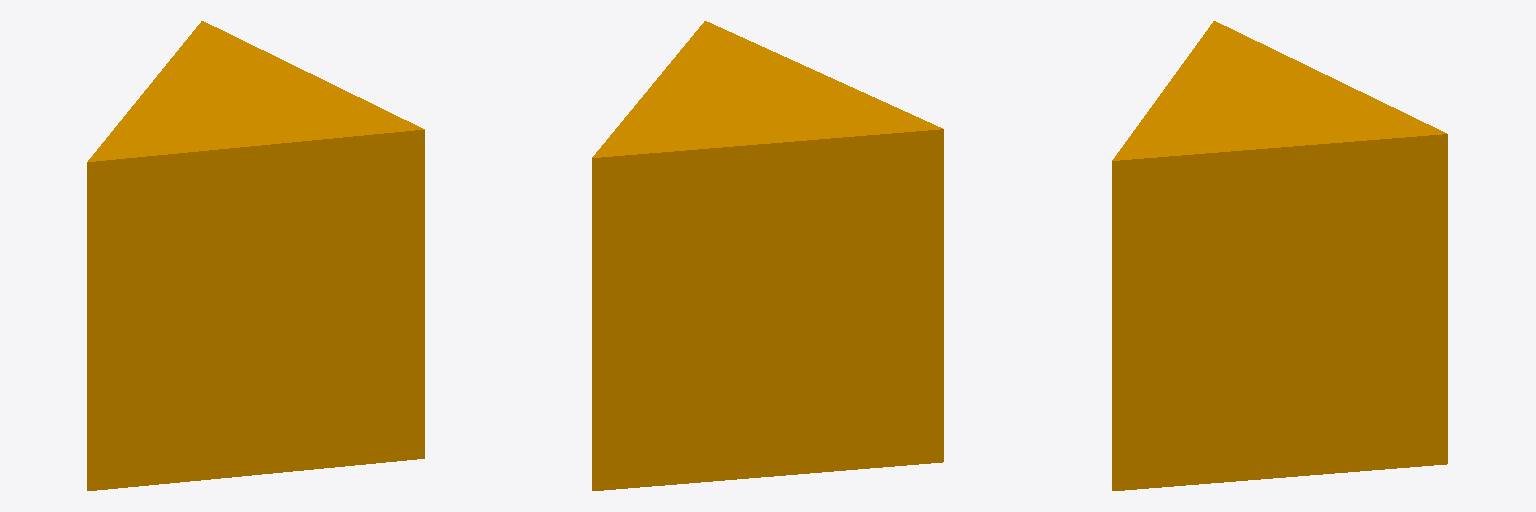
The robot description file, URDF, robot "object":
<?xml version="1.0"?>
<robot name="object">
  <link name="object">
    <visual>
      <origin xyz="0 0 0"/>
      <geometry>
        <mesh filename="meshes/generated/col_040.obj" scale="0.03 0.03 0.03"/>
      </geometry>
    </visual>
    <collision>
      <origin xyz="0 0 0"/>
      <geometry>
        <mesh filename="meshes/generated/col_040.obj" scale="0.03 0.03 0.03"/>
      </geometry>
    </collision>
    <inertial>
      <density value="1000.0"/>
    </inertial>
  </link>
</robot>

--- Facts derived from the render (not from the file) ---
3 views of the same robot in one strip: view 1: azimuth 30°, elevation 25°; view 2: azimuth 150°, elevation 25°; view 3: azimuth 270°, elevation 25° (orthographic).
Robot: object — 1 links, 0 joints (none); root link object; default pose: all joints at 0.
Links seen in each view (by area): view 1: object; view 2: object; view 3: object.
Boxes of the visible links, <box> form: object: <box>87,21,424,490</box>; object: <box>592,21,943,490</box>; object: <box>1112,21,1447,490</box>.
Size in the robot's own frame: 0.0548 by 0.0553 by 0.06 metres.
1 mesh visuals loaded from 1 distinct referenced files (1 OBJ).
